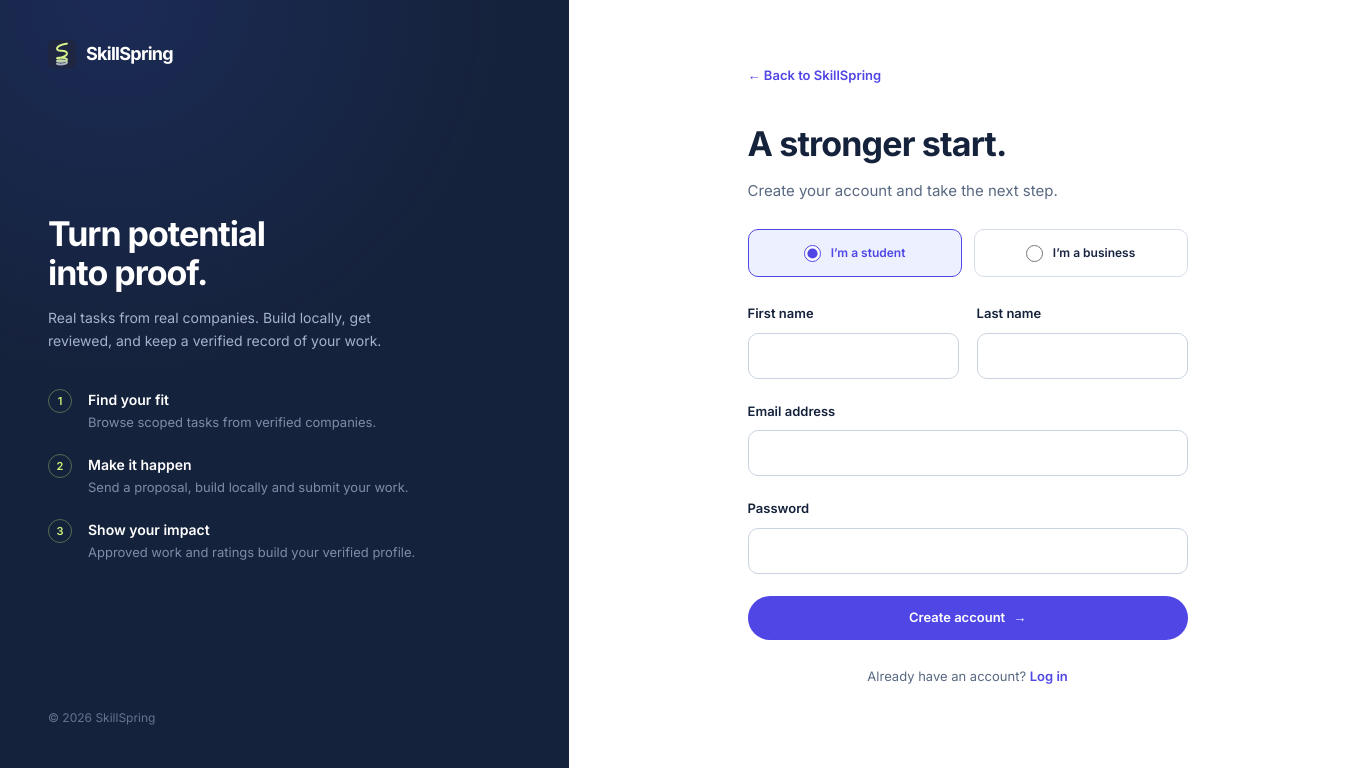
student registration posts the mapped body and shows server errors
In the field labelled "First name": (853, 356) [748,333,959,379], type "Ada"
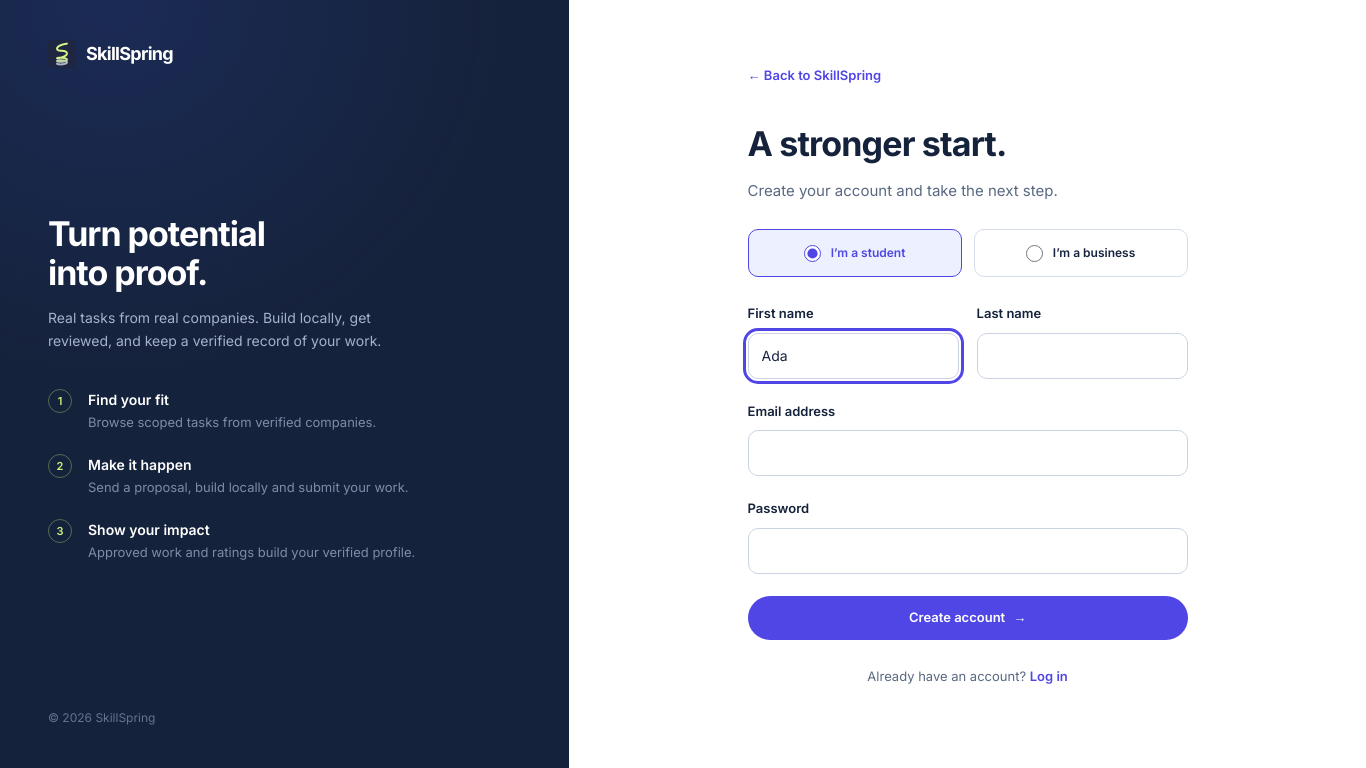
In the field labelled "Last name": (1082, 356) [977,333,1188,379], type "Lovelace"
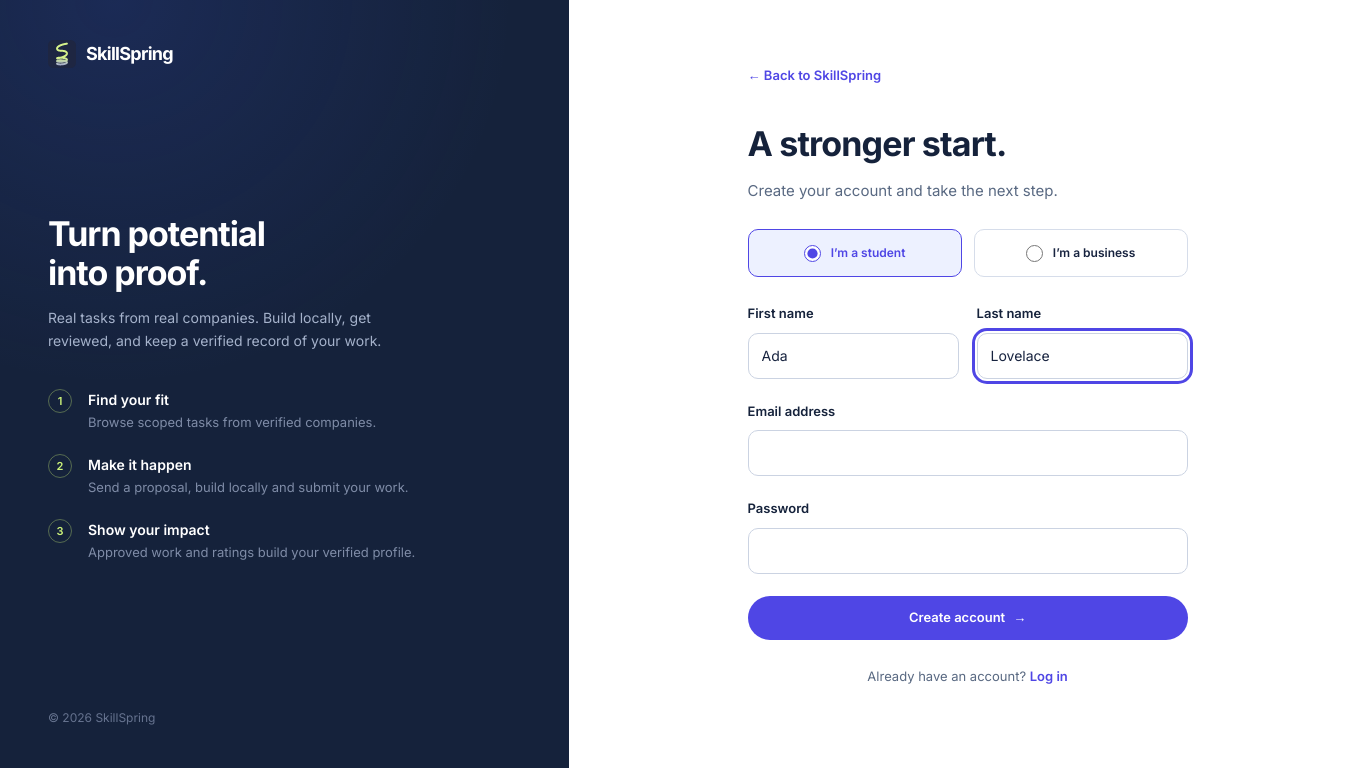
In the field labelled "Email address": (968, 453) [748,430,1188,476], type "ada@example.com"
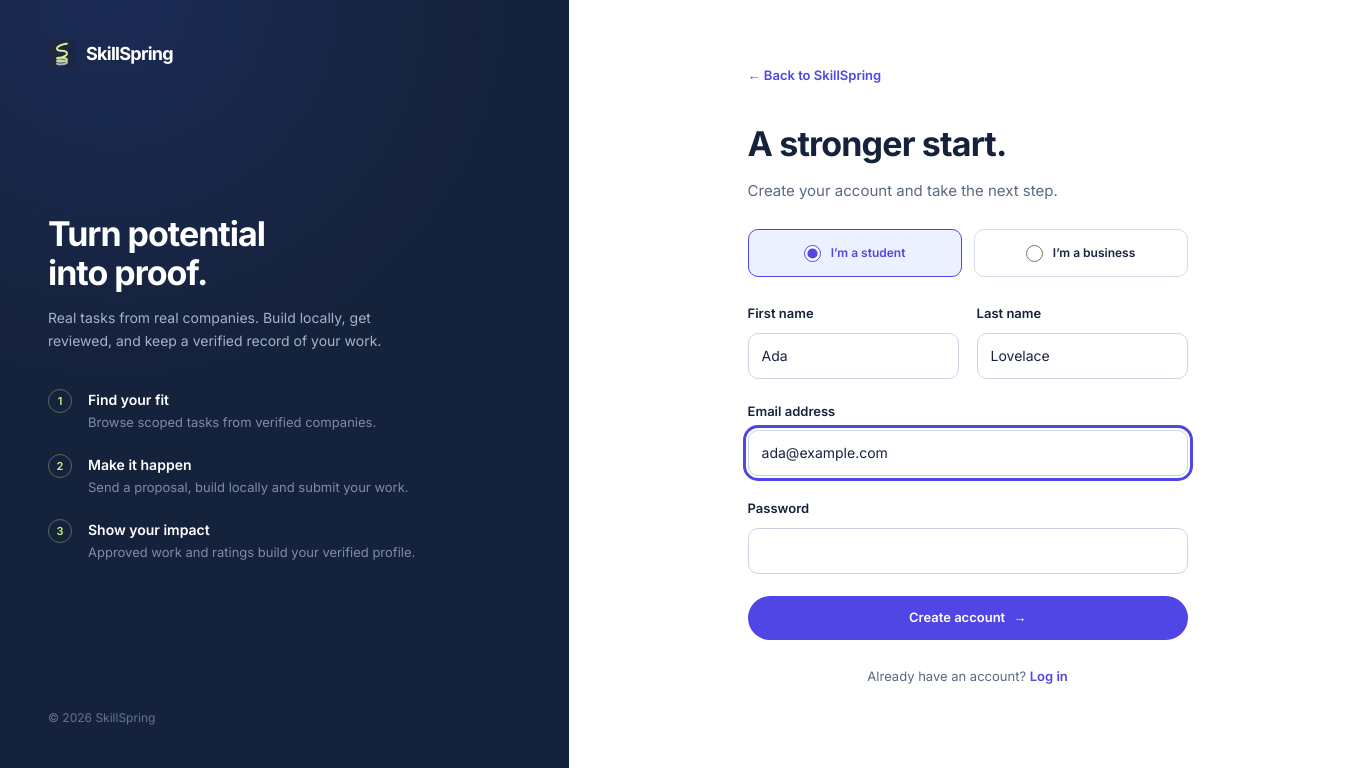
In the password field labelled "Password": (968, 550) [748,528,1188,574], type "a-long-password"
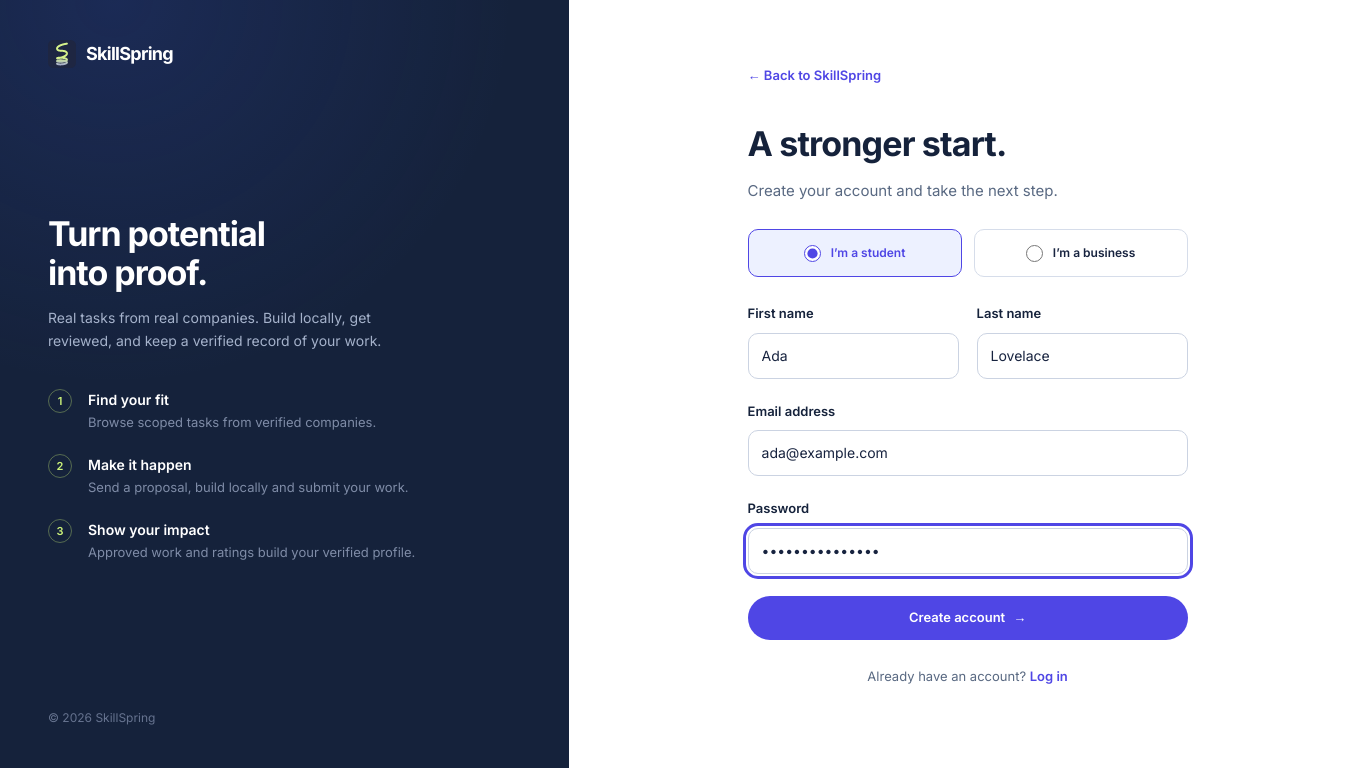
Click the button "Create account →": click(968, 618) [748,596,1188,640]
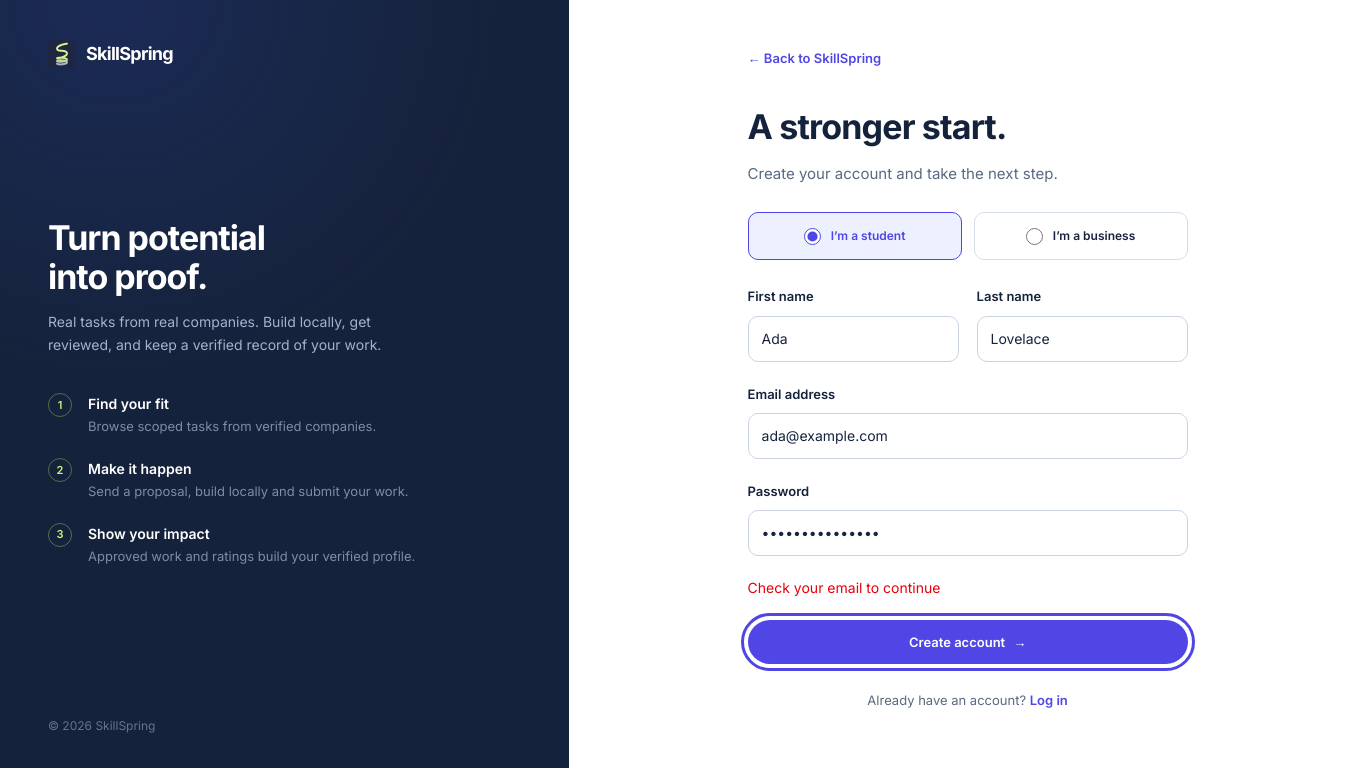
Expected: the text "Check your email to continue" is shown, [748,580,940,596]
